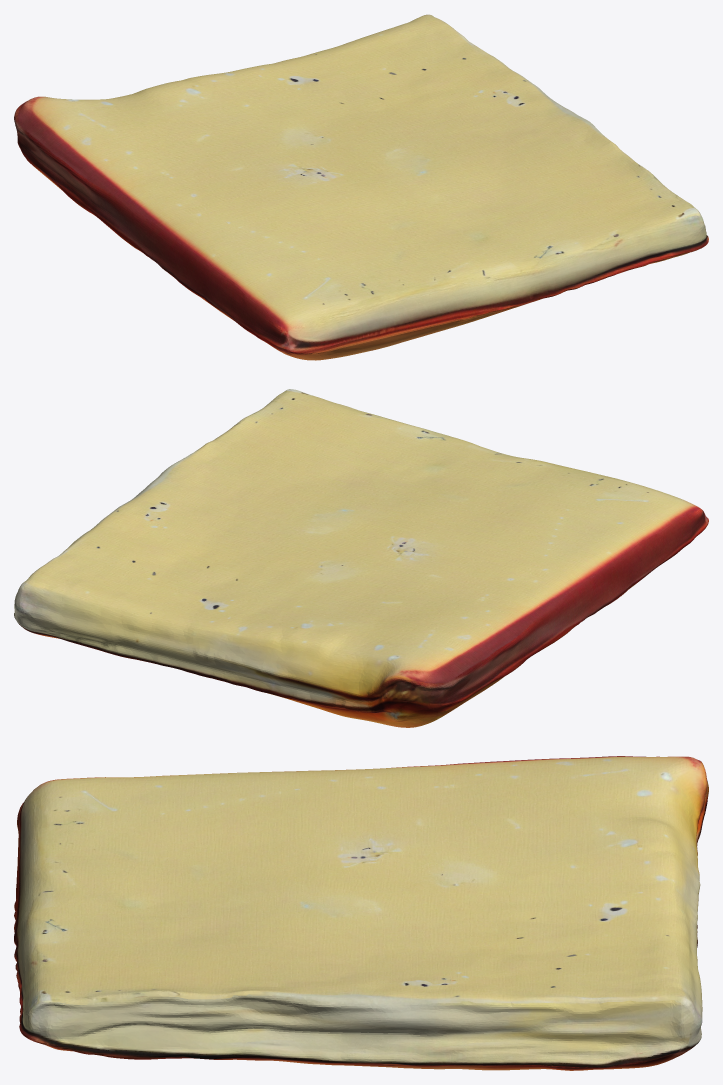
Rendered from image_0001_segmented.glb.
3 renders of one model, top to bottom at view 1: azimuth 30°, elevation 25°; view 2: azimuth 150°, elevation 25°; view 3: azimuth 270°, elevation 25°, orthographic. The views are drawn at different scales.
Parts seen in each view (by area): view 1: tmpc5d1hkm7.ply; view 2: tmpc5d1hkm7.ply; view 3: tmpc5d1hkm7.ply.
Part boxes in pixels (x1,y1,x2,y2): tmpc5d1hkm7.ply: (14,14,708,360); tmpc5d1hkm7.ply: (14,389,708,727); tmpc5d1hkm7.ply: (14,756,708,1070).
Size of the model in its own units: 1.77 by 0.2938 by 1.99.
Materials: 1 (1 with a texture image).
